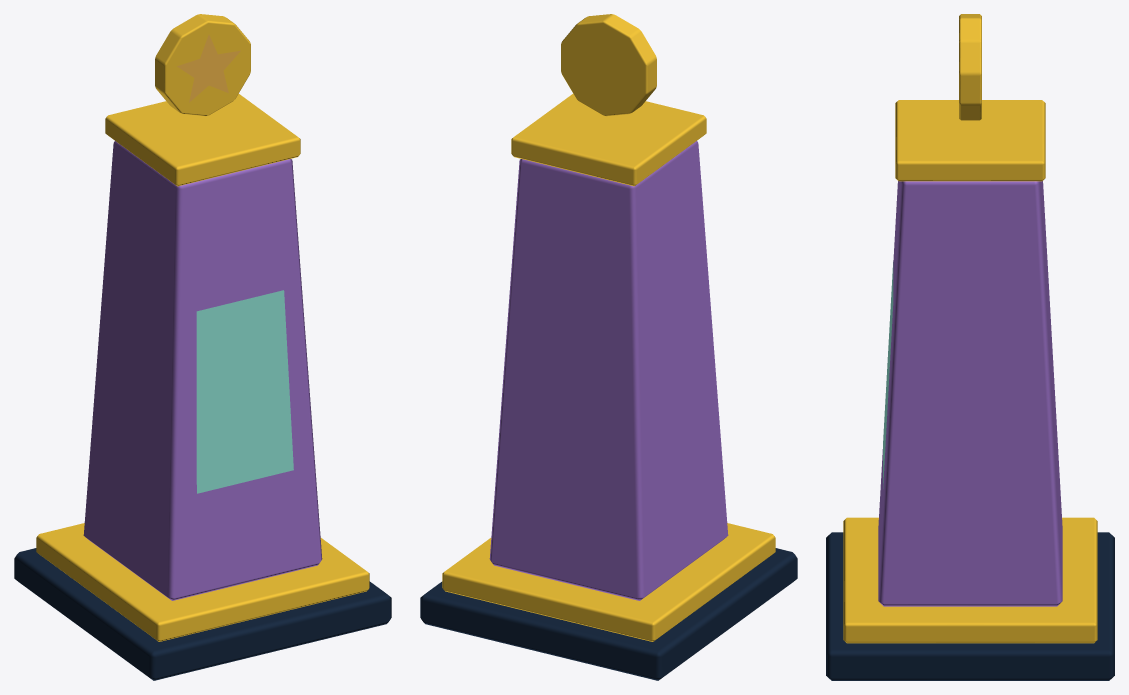
File: CM_Tycoon_PrestigeTerminal.fbx
3 views of the same model, side by side, from view 1: azimuth 30°, elevation 25°; view 2: azimuth 150°, elevation 25°; view 3: azimuth 270°, elevation 25° (orthographic). The views are drawn at different scales.
Visible parts, largest first — view 1: Body, Face; view 2: Body; view 3: Body, Face.
Part boxes in pixels (x1=…): Body: x1=14, y1=14, x2=391, y2=680; Face: x1=196, y1=290, x2=293, y2=493; Body: x1=420, y1=14, x2=797, y2=680; Body: x1=826, y1=14, x2=1114, y2=680; Face: x1=883, y1=262, x2=893, y2=488.
Size of the model in its own units: 5 by 5 by 11.53.
1 material, 1 textured.
